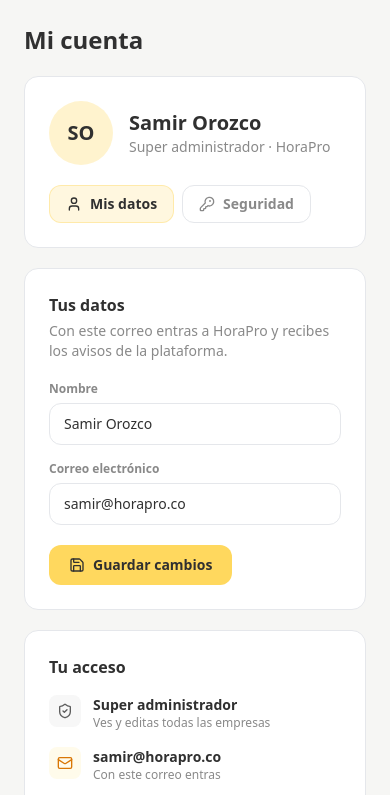
AdminCuenta › si el servidor rechaza la contraseña actual, lo dice con sus palabras
Click the button "Seguridad" at (247, 204), box [182,185,311,223]
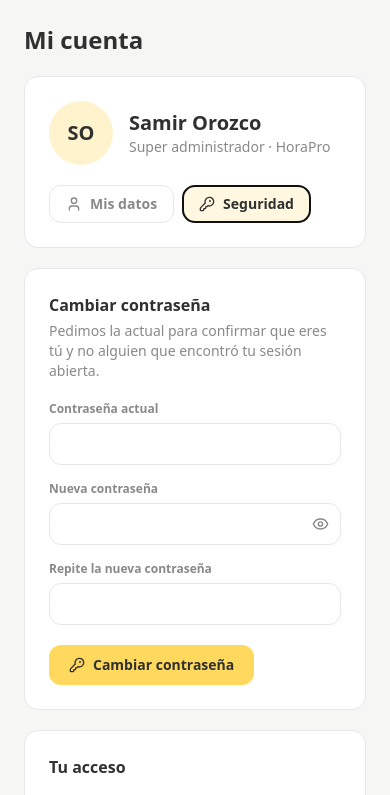
Type "equivocada" into the password field labelled "Contraseña actual" at (195, 444), box [49,423,341,465]
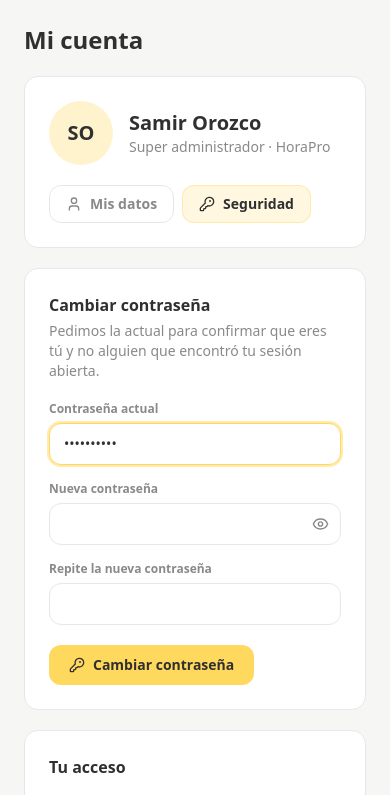
Type "nuevaClave1" into the password field labelled "Nueva contraseña" at (195, 524), box [49,503,341,545]
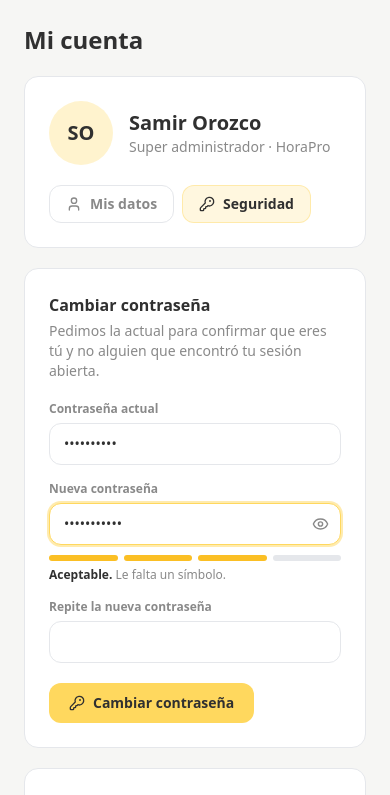
Type "nuevaClave1" into the password field labelled "Repite la nueva contraseña" at (195, 642), box [49,621,341,663]
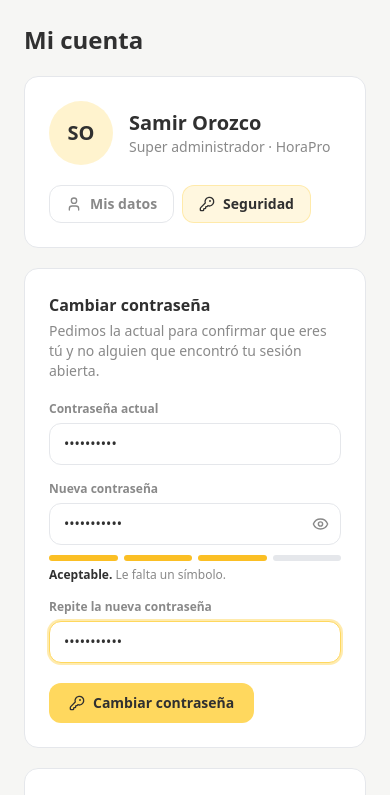
Click the button "Cambiar contraseña" at (152, 703), box [49,683,254,723]
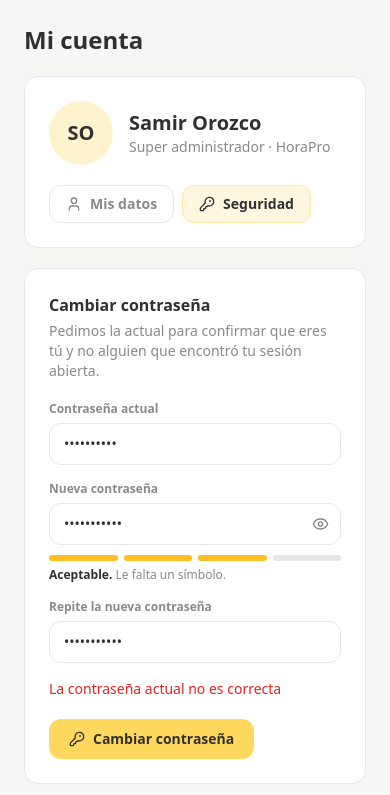
Expected: the text "La contraseña actual no es correcta" is shown, [49,679,281,698]
